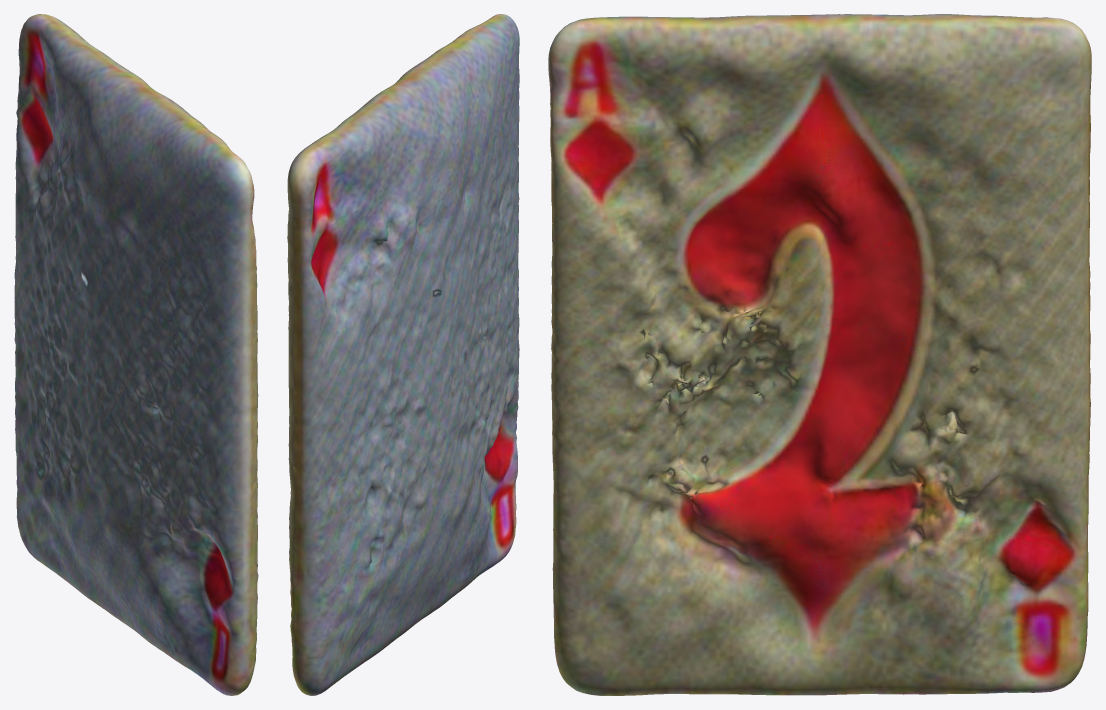
File: card_18.glb
The picture shows the model from 3 angles, left to right: view 1: azimuth 30°, elevation 25°; view 2: azimuth 150°, elevation 25°; view 3: azimuth 270°, elevation 25°; orthographic projection. The views are drawn at different scales.
Visible parts, largest first — view 1: Mesh1; view 2: Mesh1; view 3: Mesh1.
Part boxes in pixels (box(x1,y1,x2,y2)): Mesh1: box(14, 14, 258, 695); Mesh1: box(287, 14, 519, 695); Mesh1: box(548, 14, 1091, 695).
Size of the model in its own units: 0.1743 by 1.2 by 0.8744.
Materials: 1 (1 with a texture image).
